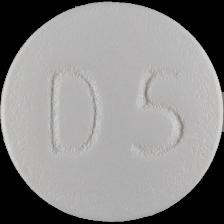0430-0170: (0, 0, 224, 224)
